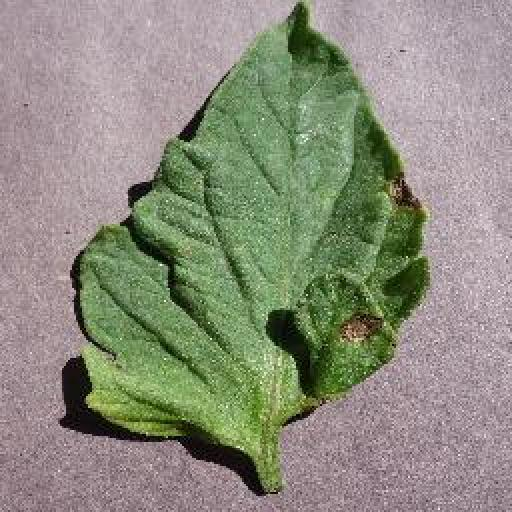disease_tomato: (74, 4, 431, 446)
